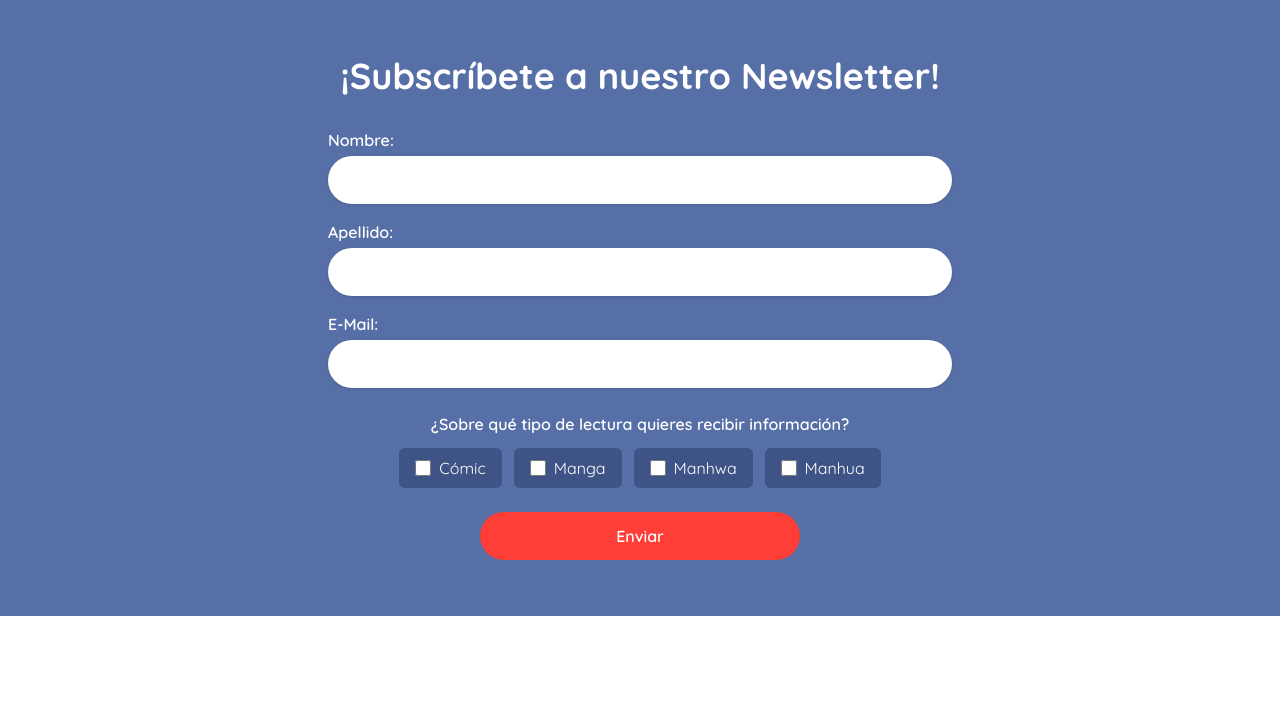
Test: Newsletter › shows an error when the name is missing
Type "ana@example.com" into the field labelled "E-Mail:". click: (640, 364)
box: [328,340,952,388]
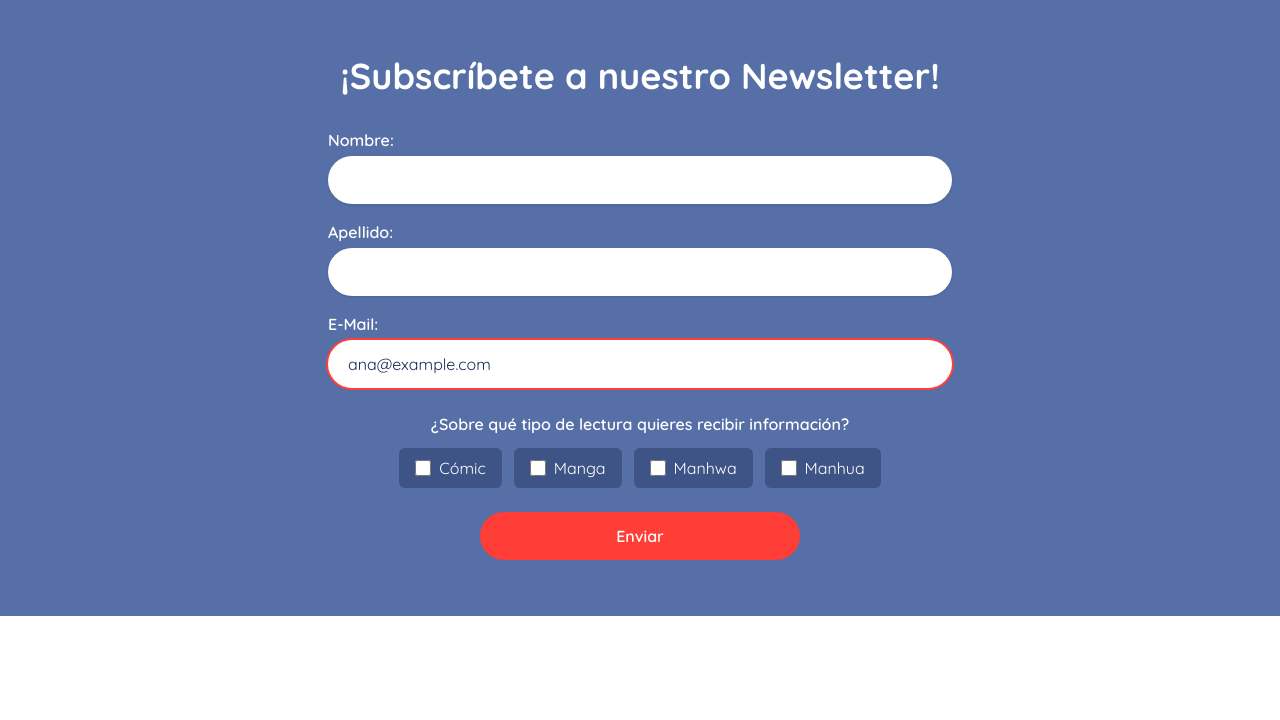
Click the button "Enviar". click: (640, 536)
box: [480,512,800,560]
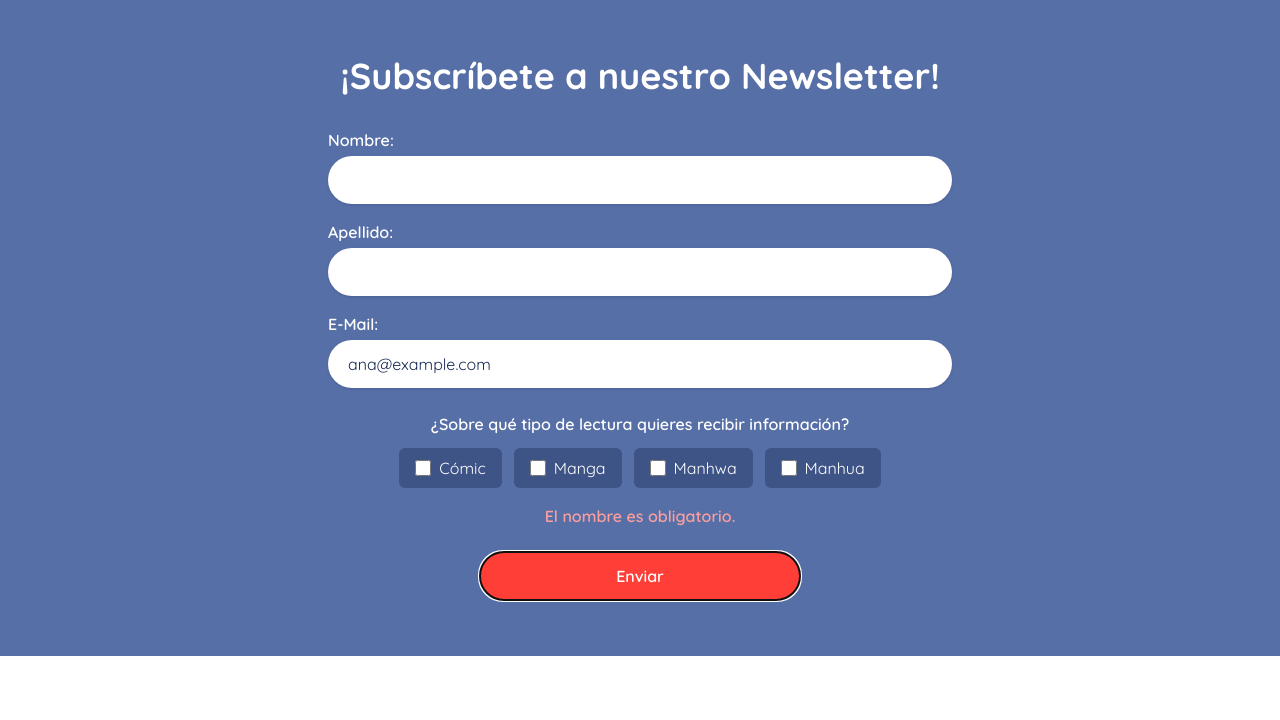
Now the text "El nombre es obligatorio." is shown, box [545,506,735,526]
